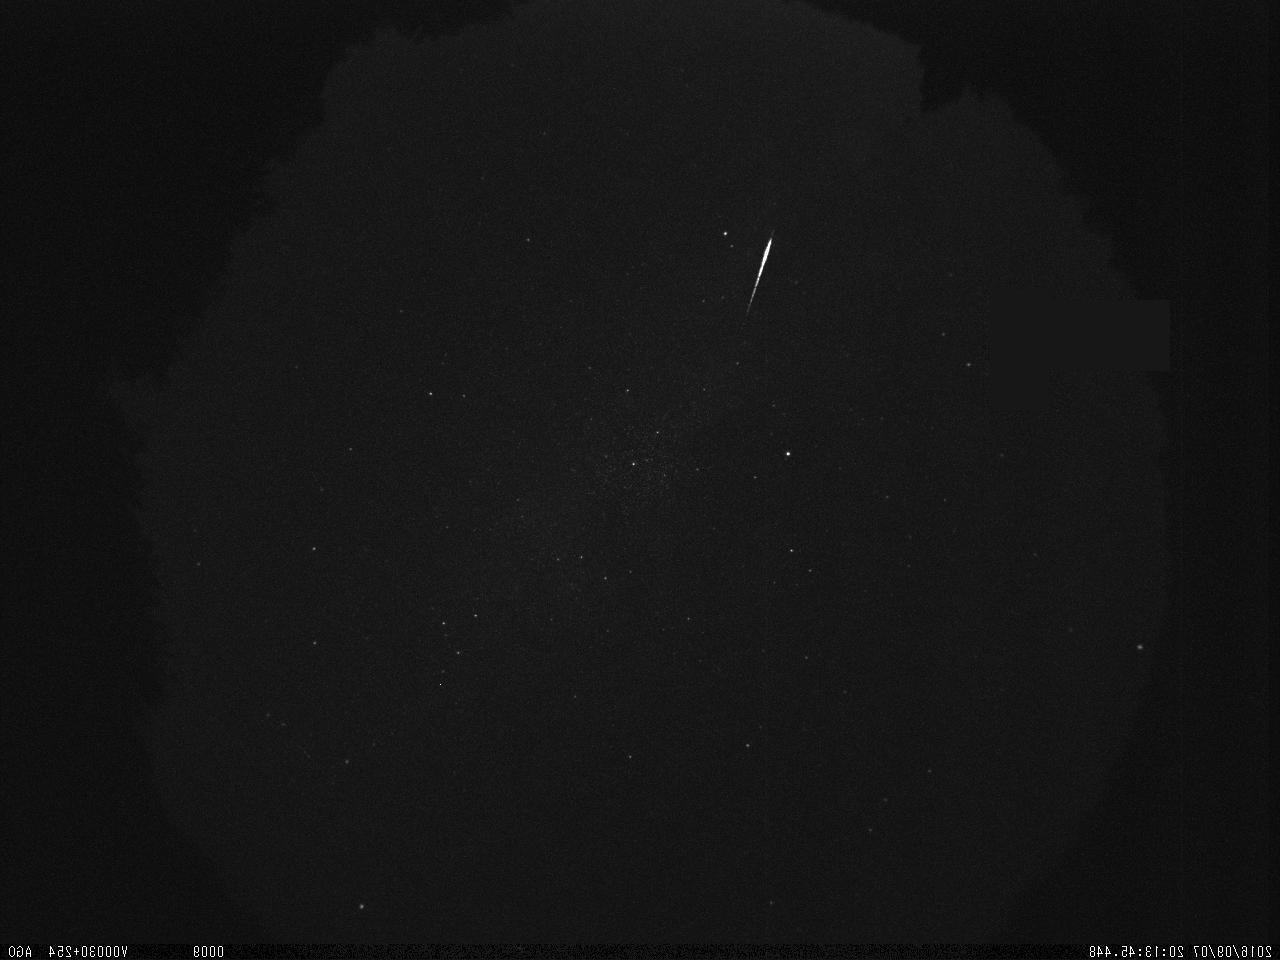meteor: (728, 217, 822, 324)
